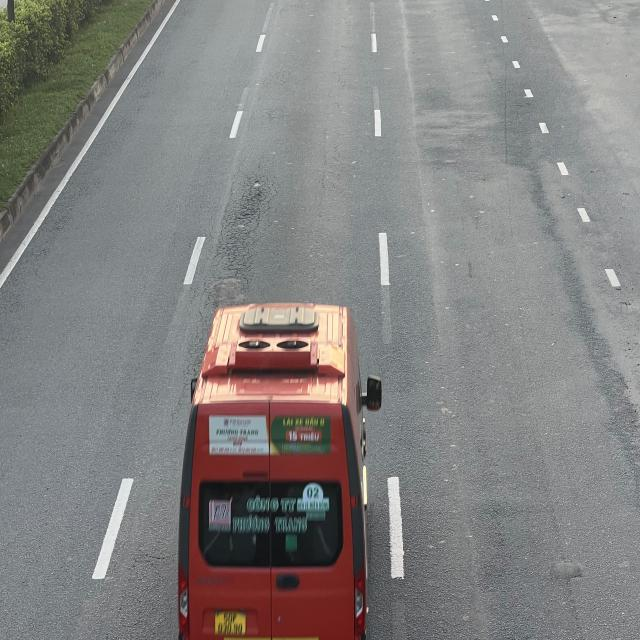van: (178, 299, 383, 636)
